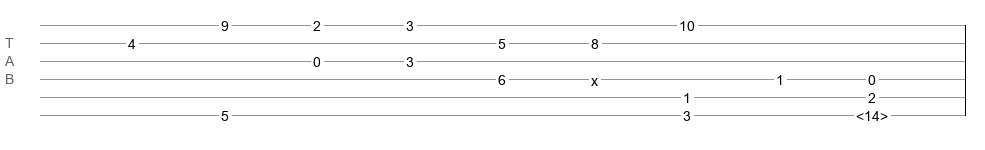0: (313, 54, 321, 64), (868, 72, 876, 82)
1: (683, 90, 691, 100), (776, 72, 784, 82)
10: (679, 18, 695, 28)
2: (313, 18, 321, 28), (868, 90, 876, 100)
3: (406, 18, 414, 28), (406, 54, 414, 64), (683, 108, 691, 118)
4: (128, 36, 136, 46)
5: (221, 108, 229, 118), (498, 36, 506, 46)
6: (498, 72, 506, 82)
8: (591, 36, 599, 46)
9: (221, 18, 229, 28)
harmonic: (856, 108, 888, 118)
x: (591, 73, 598, 81)
